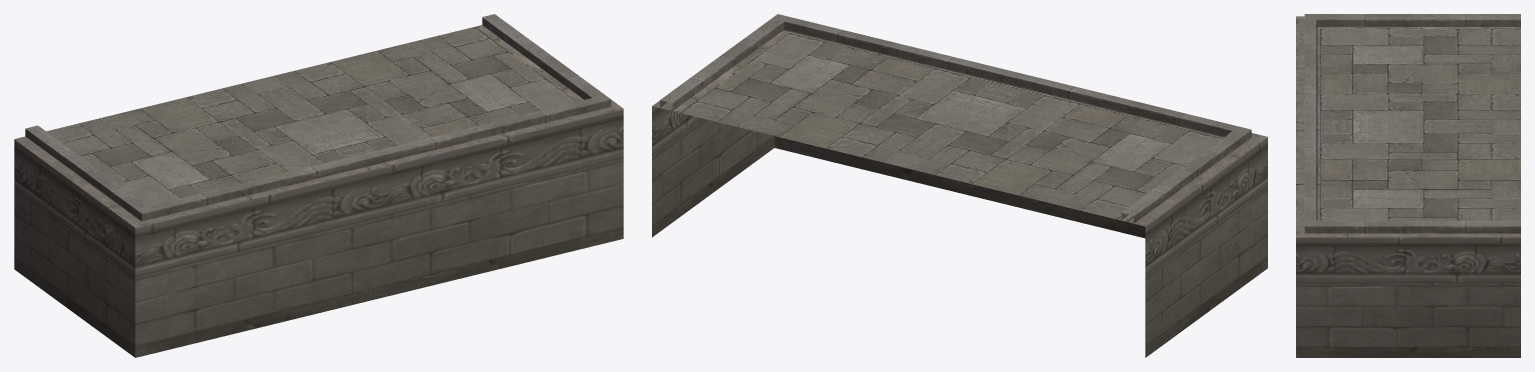
Rendered from s7_3d_lmzc_taizi001.FBX.
3 renders of one model, left to right at view 1: azimuth 30°, elevation 25°; view 2: azimuth 150°, elevation 25°; view 3: azimuth 270°, elevation 25°, orthographic. The views are drawn at different scales.
Visible parts, largest first — view 1: s7_unioncity_jianzhu_01_taizi; view 2: s7_unioncity_jianzhu_01_taizi; view 3: s7_unioncity_jianzhu_01_taizi.
Part boxes in pixels (x1=…): s7_unioncity_jianzhu_01_taizi: x1=14, y1=14, x2=623, y2=357; s7_unioncity_jianzhu_01_taizi: x1=652, y1=14, x2=1267, y2=357; s7_unioncity_jianzhu_01_taizi: x1=1296, y1=14, x2=1520, y2=357.
Bounding box in the file's own units: 55.13 × 14.88 × 23.7.
